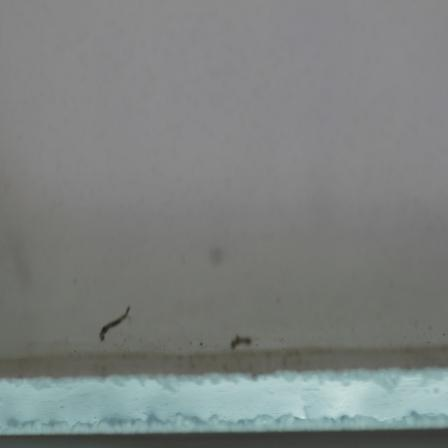Jentik-Nyamuk: (98, 301, 137, 344)
